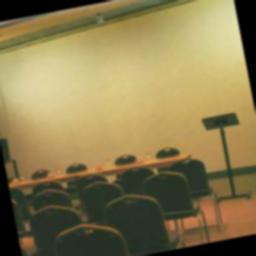Otro Obstaculo: (197, 109, 256, 206)
